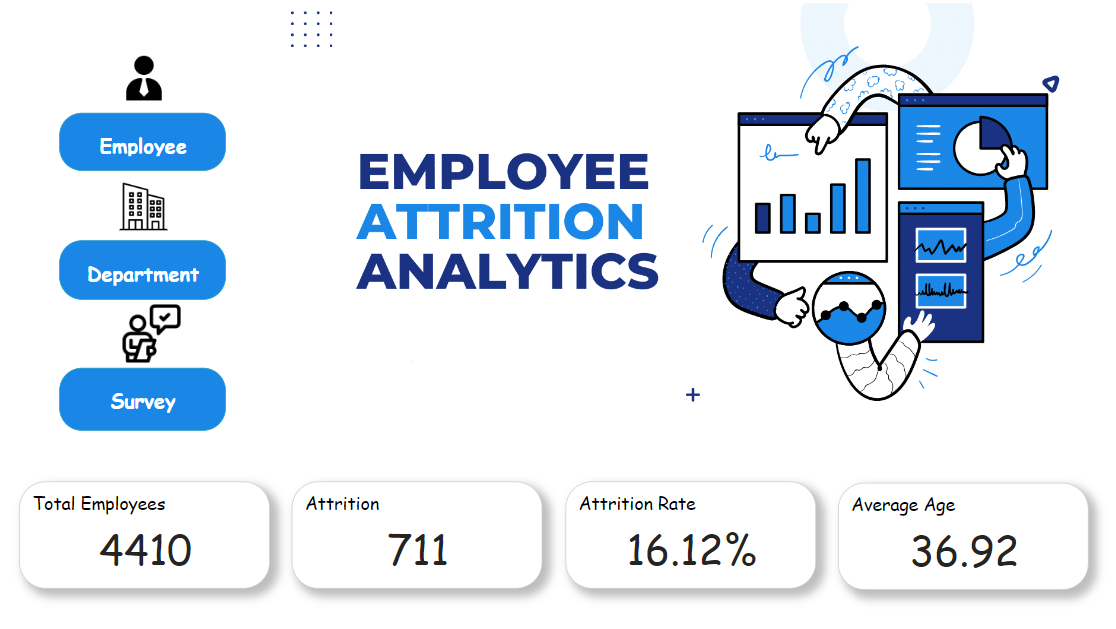

This screenshot's page, from the dashboard's own definition file:
{"tool":"powerbi","page":{"name":"Home","canvas":[1280,720],"ordinal":0},"visuals":[{"type":"card","title":"Average Age","fields":{"Values":["Avg(Employee_Dim.AGE)"]},"box":[960,552.4,286,122],"z":0},{"type":"actionButton","title":"Employee","box":[70,130,190,66],"z":1000},{"type":"actionButton","title":"Department","box":[70,276,190,68],"z":2000},{"type":"actionButton","title":"Survey","box":[70,422,190,72],"z":3000},{"type":"card","title":"Attrition","fields":{"Values":["Count(Attrition_Fact.EMPLOYEEID)"]},"box":[336,551.1,286,122],"z":4000},{"type":"card","title":"Attrition Rate","fields":{"Values":["Measure_table.AttritionRate"]},"box":[648,552,286,122],"z":5000},{"type":"image","box":[320,0,960,550],"z":6000},{"type":"image","box":[132.8,49.6,68,80],"z":7000},{"type":"image","box":[134.8,196.6,64,80],"z":8000},{"type":"card","title":"Total Employees","fields":{"Values":["Count(Attrition_Fact.EMPLOYEEID)"]},"box":[24,551.5,286,122],"z":9000},{"type":"image","box":[134.8,343.6,82,76],"z":10000}]}

Visuals, with their boxes in screenshot pixels (x1, y1, x2, y2), scaled from the page's 1280x720 canvas onto the 1116x629 screenshot:
"Average Age" card: (837, 483, 1086, 589)
"Employee" actionButton: (61, 114, 227, 171)
"Department" actionButton: (61, 241, 227, 301)
"Survey" actionButton: (61, 369, 227, 432)
"Attrition" card: (293, 481, 542, 588)
"Attrition Rate" card: (565, 482, 814, 589)
image: (279, 0, 1115, 480)
image: (116, 43, 175, 113)
image: (118, 172, 173, 242)
"Total Employees" card: (21, 482, 270, 588)
image: (118, 300, 189, 367)
